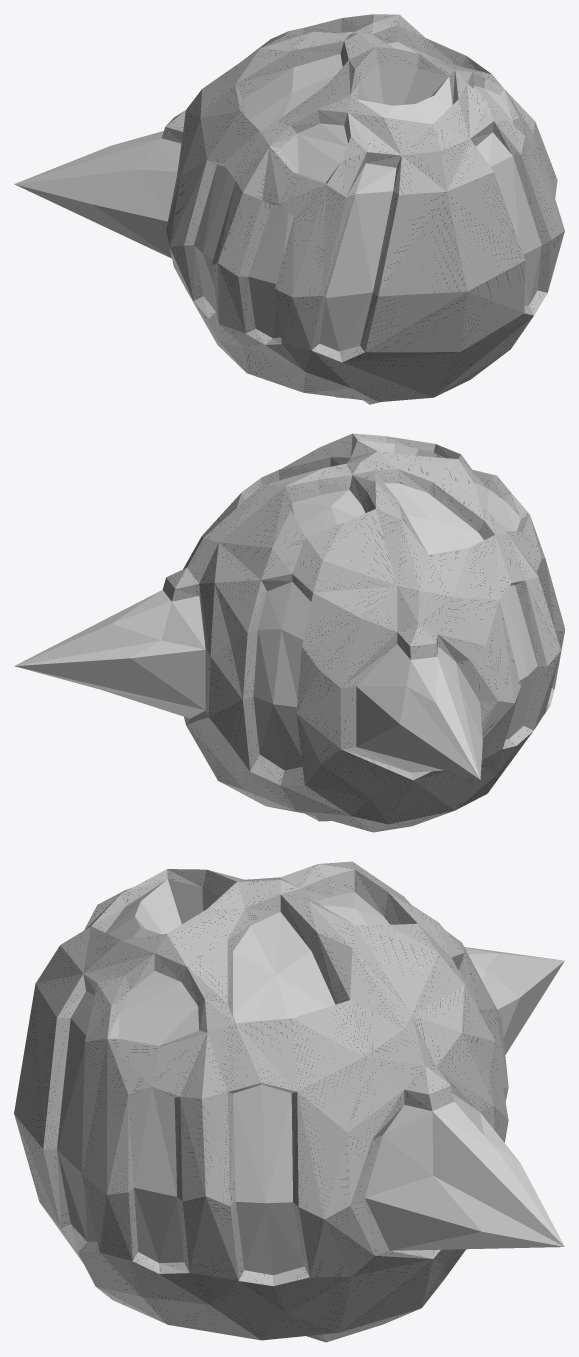
The model's file is BR_Glalie-Shiny01.obj.
3 renders of one model, top to bottom at view 1: azimuth 30°, elevation 25°; view 2: azimuth 150°, elevation 25°; view 3: azimuth 270°, elevation 25°, orthographic. The views are drawn at different scales.
Parts seen in each view (by area): view 1: onigohri; view 2: onigohri; view 3: onigohri.
Part boxes in pixels (x1,y1,x2,y2): onigohri: (14, 14, 564, 404); onigohri: (14, 433, 564, 832); onigohri: (14, 861, 564, 1342).
Bounding box in the file's own units: 18.27 × 13.13 × 14.86.
